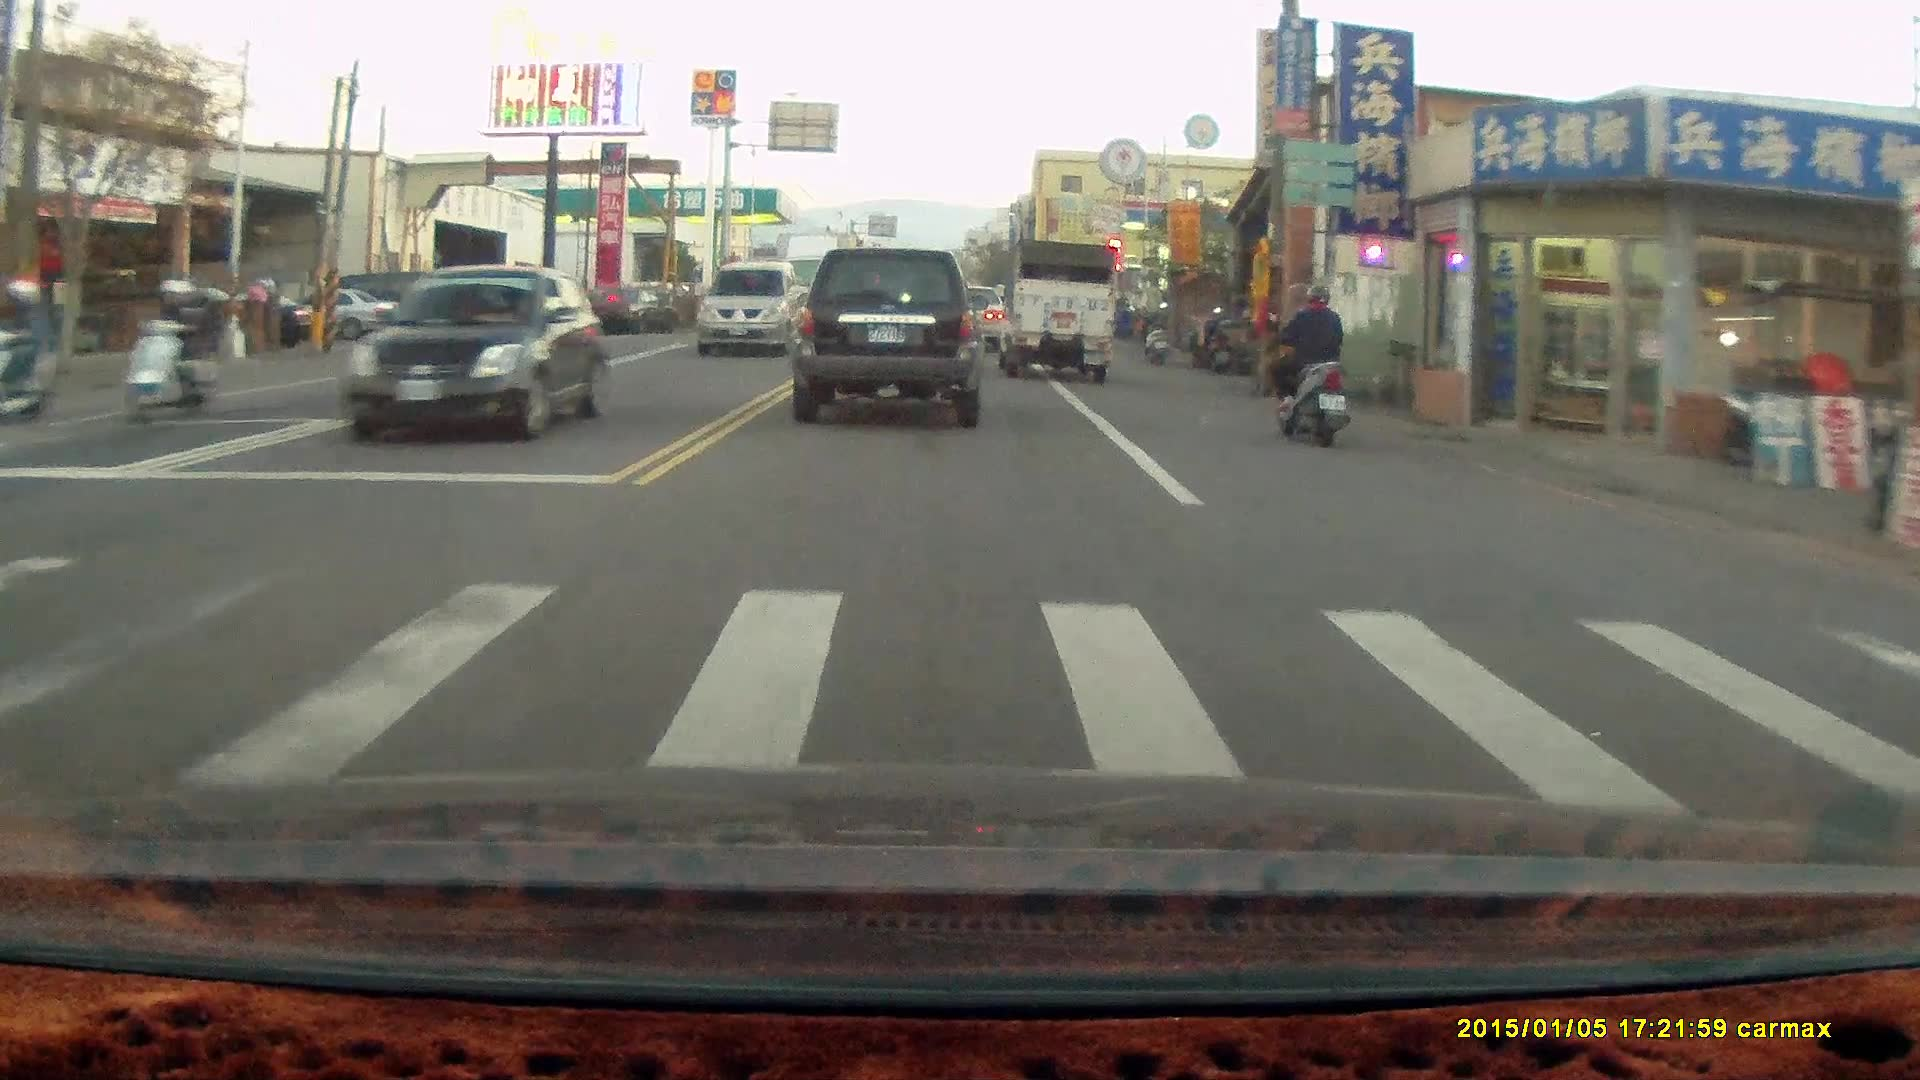rider: (115, 271, 228, 422), (1259, 275, 1352, 443), (0, 274, 58, 429)
vehicle: (346, 265, 611, 438), (788, 247, 984, 427), (994, 239, 1116, 384), (696, 259, 808, 356), (453, 285, 578, 356)
